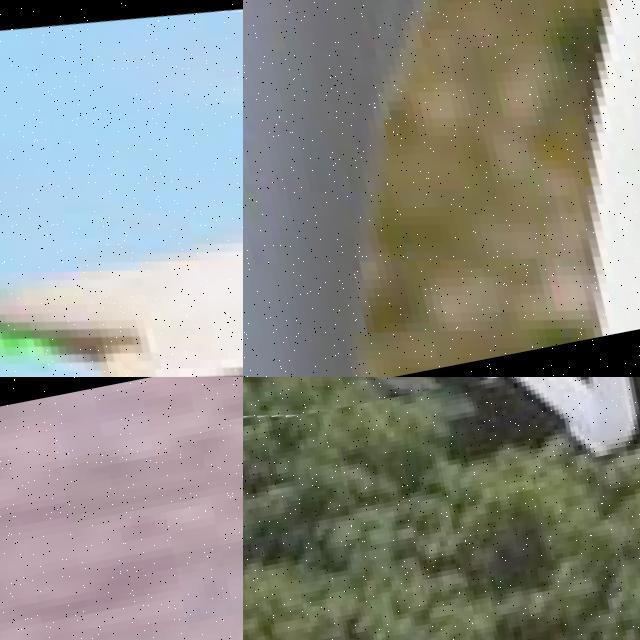drone: (243, 0, 640, 377), (0, 0, 243, 377), (243, 377, 640, 454)
